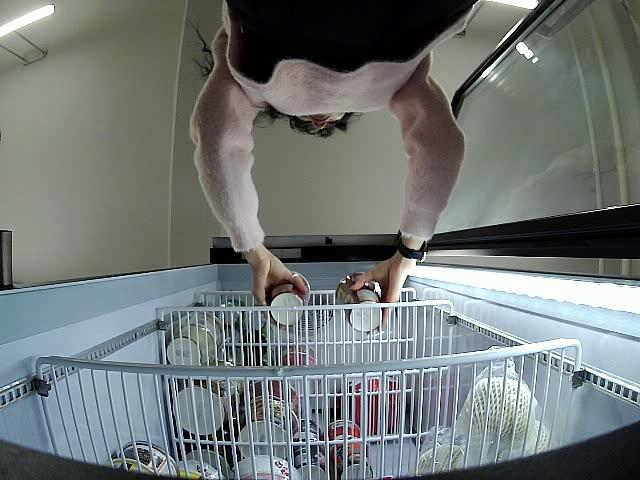00_hand: (251, 241, 309, 331), (351, 250, 415, 326)
06_nuguri_S: (334, 271, 386, 333), (264, 271, 313, 325)
